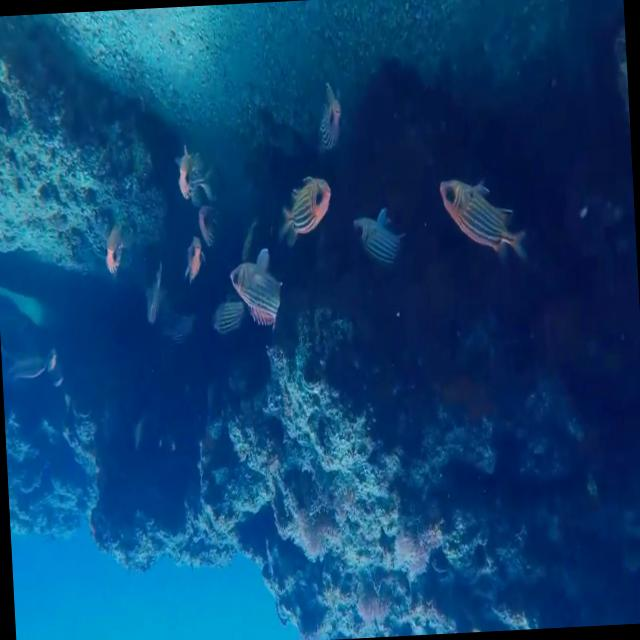Asker Baligi: (438, 174, 528, 268), (272, 158, 340, 246), (228, 246, 286, 336)
